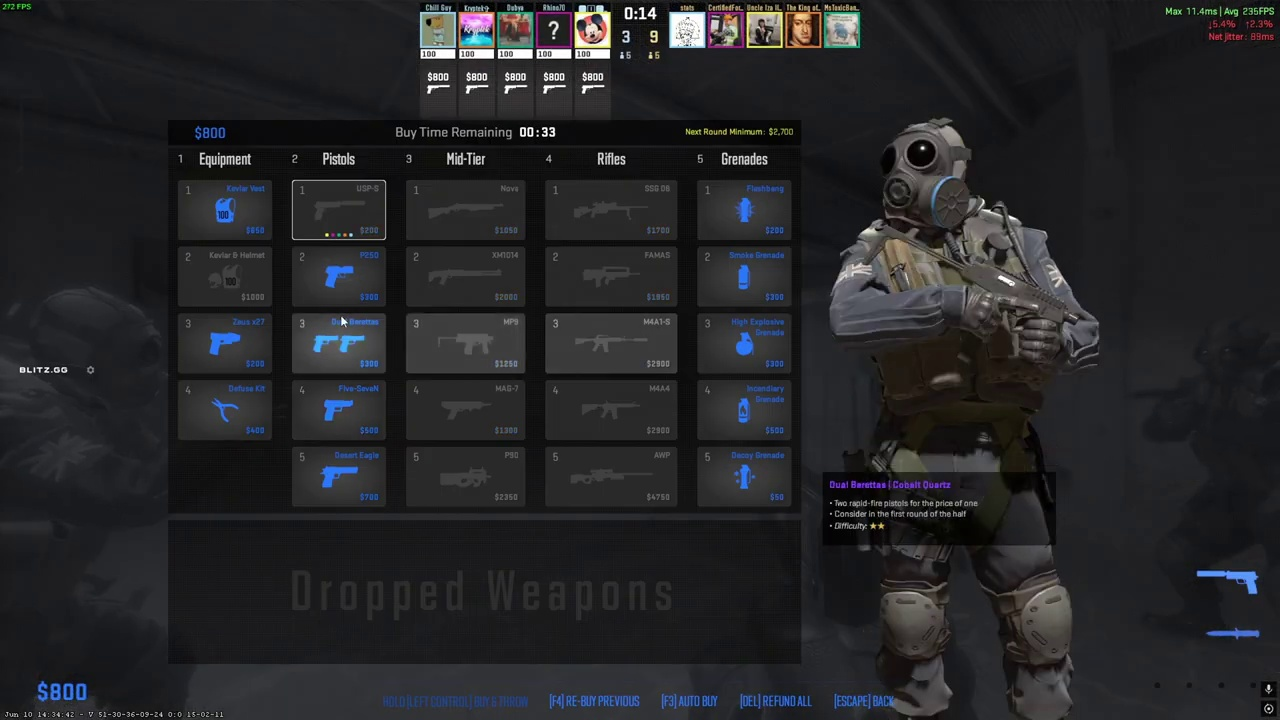CT: (857, 121, 1081, 720), (0, 286, 164, 720), (1152, 320, 1280, 641)
